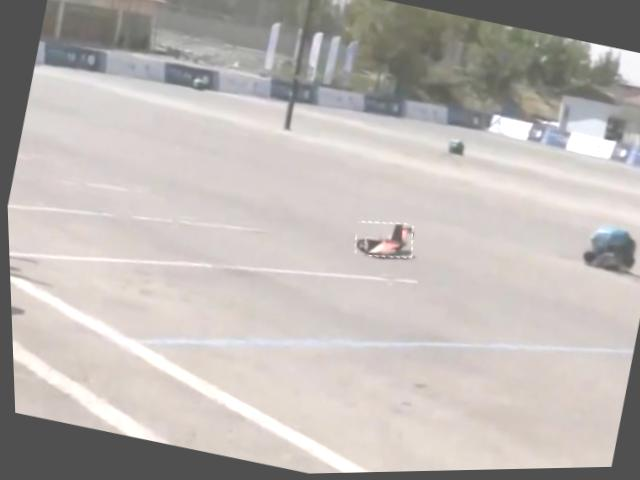insansiz-hava-araci: (349, 217, 415, 266)
